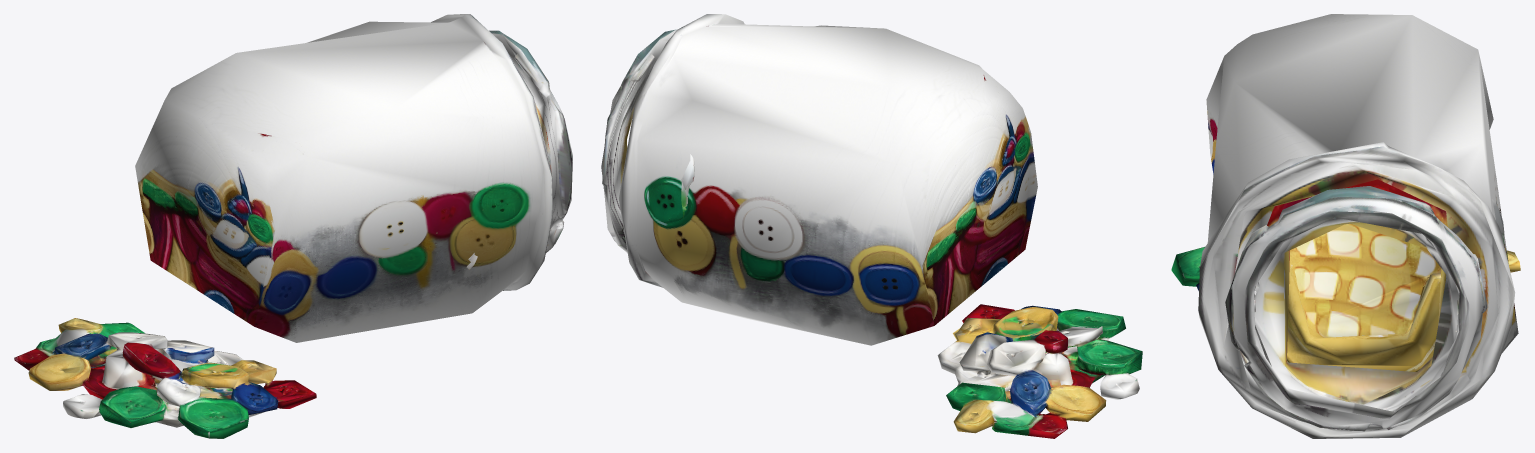
File: buttons.glb
3 renders of one model, left to right at view 1: azimuth 30°, elevation 25°; view 2: azimuth 150°, elevation 25°; view 3: azimuth 270°, elevation 25°, orthographic. The views are drawn at different scales.
Parts seen in each view (by area): view 1: Mesh_0; view 2: Mesh_0; view 3: Mesh_0.
Boxes of the visible parts, x1,y1,x2,y2 form: Mesh_0: (14, 14, 572, 438); Mesh_0: (601, 14, 1142, 438); Mesh_0: (1171, 14, 1520, 438).
Bounding box in the file's own units: 1.91 × 1.11 × 1.07.
1 material, 1 textured.
